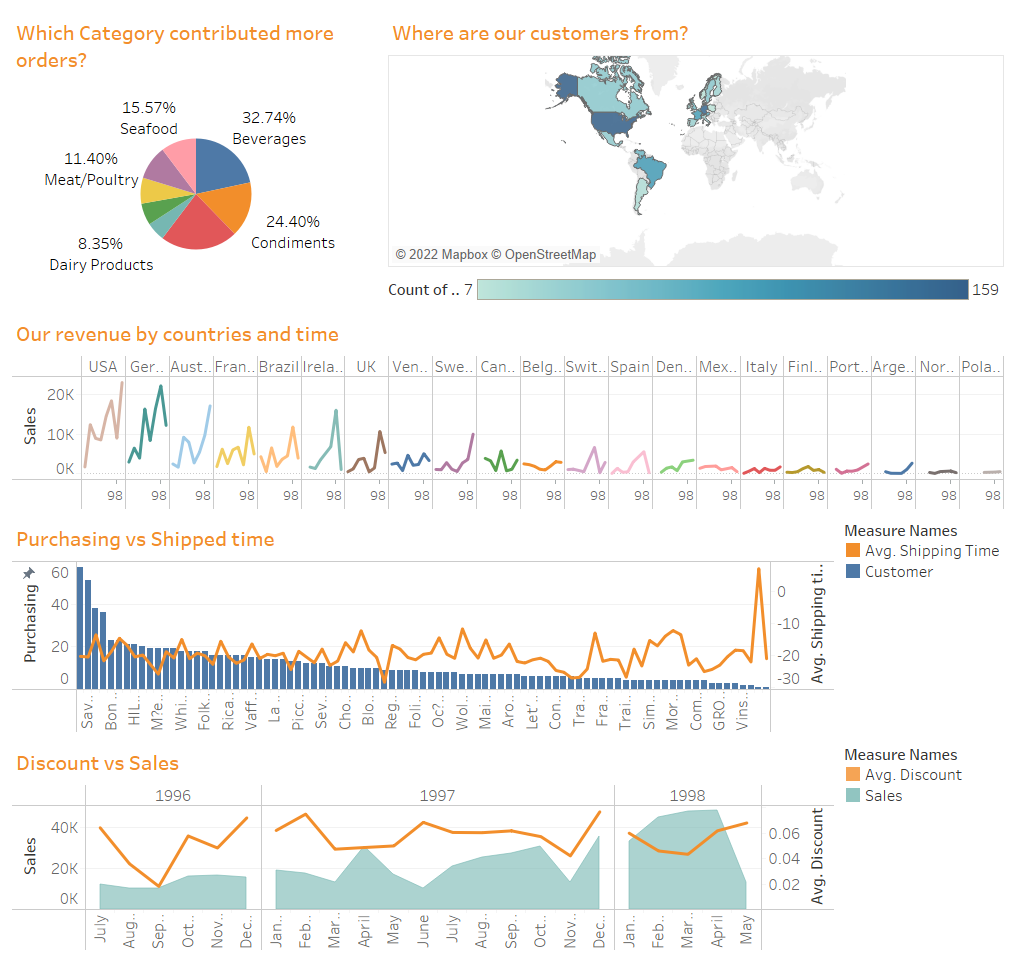

What the dashboard file says about the page in this screenshot:
{"tool":"tableau","page":{"name":"Dashboard 1","canvas":[1016,964],"ordinal":0},"visuals":[{"type":"worksheet","title":"G3","mark":"Pie","box":[8,8,376,300.8]},{"type":"worksheet","title":"G1","mark":"Automatic","box":[384,8,624,263.5]},{"type":"legend","title":"G1","param":"[federated.0a1ndws02peesi17wqmed1dy620i].[ctd:CustomerID:qk]","box":[384,271.5,624,37.4]},{"type":"worksheet","title":"G2","mark":"Automatic","rows":["Subtotal"],"cols":["CustomerCountry","RequiredDate"],"box":[8,308.8,1000,205.2]},{"type":"worksheet","title":"G4","mark":"Line","rows":["CustomerID","Calculation_1368249910415368194"],"cols":["CustomerName"],"box":[8,514,871,223.9]},{"type":"legend","title":"G4","param":"[federated.0a1ndws02peesi17wqmed1dy620i].[:Measure Names]","box":[879,514,129,223.9]},{"type":"worksheet","title":"G5","mark":"Area","rows":["Subtotal","OrderDiscount"],"cols":["OrderDate","OrderDate"],"box":[8,738,871,218]},{"type":"legend","title":"G5","param":"[federated.0a1ndws02peesi17wqmed1dy620i].[:Measure Names]","box":[879,738,129,218]}]}

Visuals, with their boxes in screenshot pixels (x1, y1, x2, y2), scaled from the page's 1016x964 canvas onto the 1016x964 screenshot:
"G3" worksheet (Pie marks): x1=8 y1=8 x2=384 y2=309
"G1" worksheet: x1=384 y1=8 x2=1008 y2=272
"G1" legend: x1=384 y1=272 x2=1008 y2=309
"G2" worksheet: x1=8 y1=309 x2=1008 y2=514
"G4" worksheet (Line marks): x1=8 y1=514 x2=879 y2=738
"G4" legend: x1=879 y1=514 x2=1008 y2=738
"G5" worksheet (Area marks): x1=8 y1=738 x2=879 y2=956
"G5" legend: x1=879 y1=738 x2=1008 y2=956
